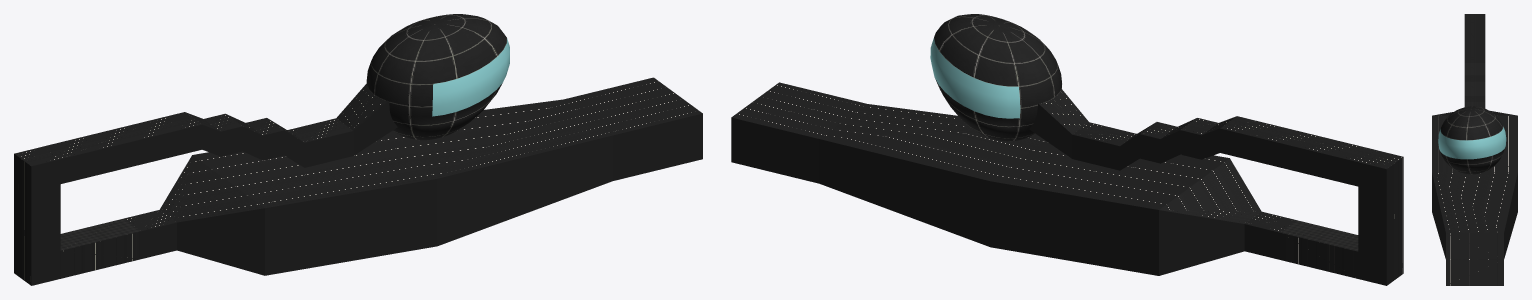
The model's file is nivel1.glb.
The picture shows the model from 3 angles, left to right: view 1: azimuth 30°, elevation 25°; view 2: azimuth 150°, elevation 25°; view 3: azimuth 270°, elevation 25°; orthographic projection. The views are drawn at different scales.
Visible parts, largest first — view 1: Sphere, Sphere.001; view 2: Sphere, Sphere.001; view 3: Sphere, Sphere.001.
Part boxes in pixels (<box>): Sphere: <box>14,14,702,285</box>; Sphere.001: <box>432,38,509,116</box>; Sphere: <box>731,14,1403,285</box>; Sphere.001: <box>930,38,1020,118</box>; Sphere: <box>1432,14,1517,285</box>; Sphere.001: <box>1438,127,1506,159</box>.
Bounding box in the file's own units: 156 × 43.49 × 29.88.
Materials: 2 (1 with a texture image).
